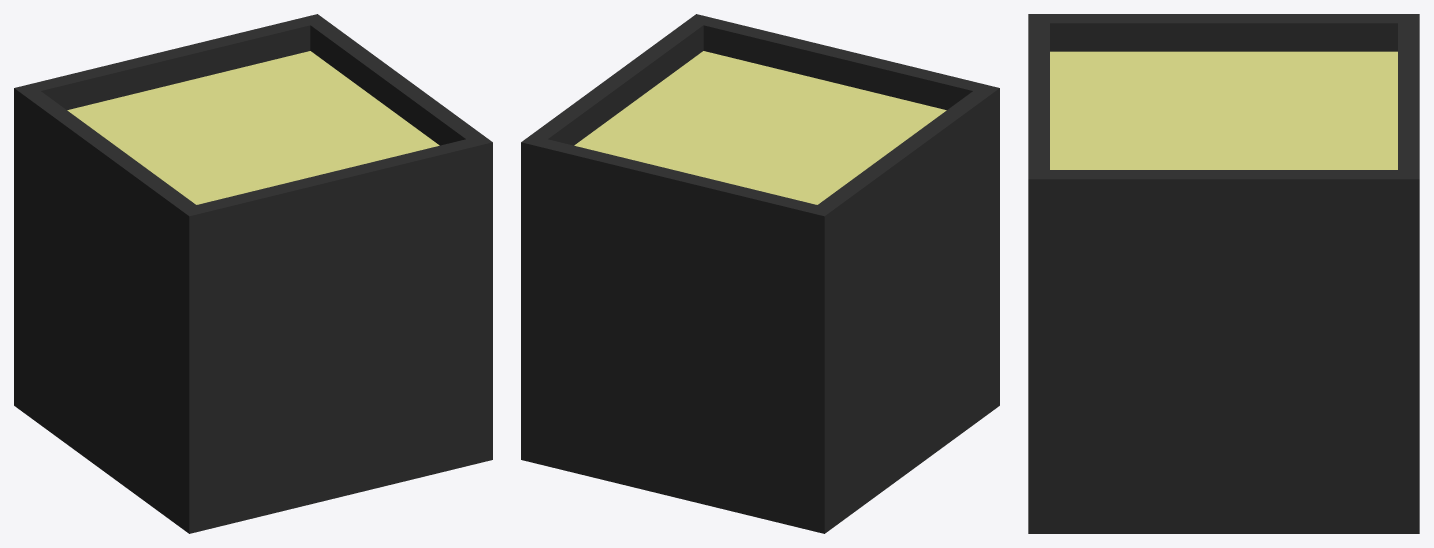
File: light.fbx
3 views of the same model, side by side, from view 1: azimuth 30°, elevation 25°; view 2: azimuth 150°, elevation 25°; view 3: azimuth 270°, elevation 25° (orthographic). The views are drawn at different scales.
Parts seen in each view (by area): view 1: Cube; view 2: Cube; view 3: Cube.
Boxes of the visible parts, bbox=[...] form: Cube: bbox=[14, 14, 492, 533]; Cube: bbox=[521, 14, 999, 533]; Cube: bbox=[1028, 14, 1419, 533].
Bounding box in the file's own units: 200 × 200 × 200.
